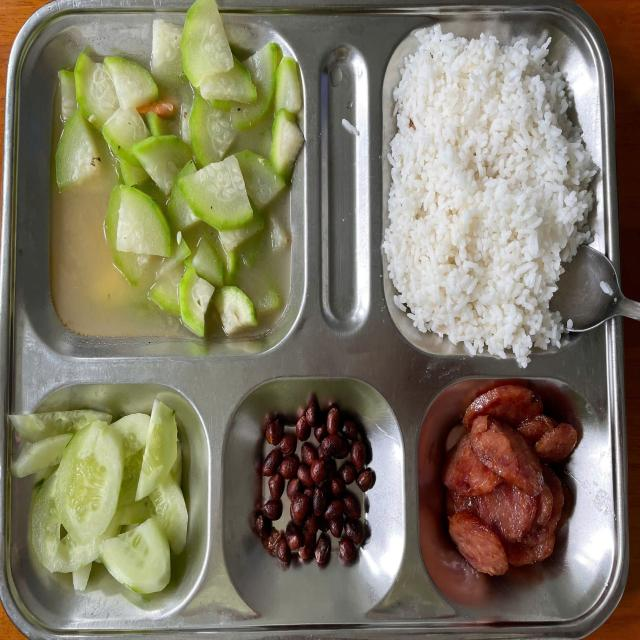canhbau: (53, 48, 299, 338)
dauphong: (258, 399, 385, 578)
dualeo: (12, 402, 193, 603)
lapxuong: (443, 397, 581, 575)
salad: (399, 54, 583, 332)
